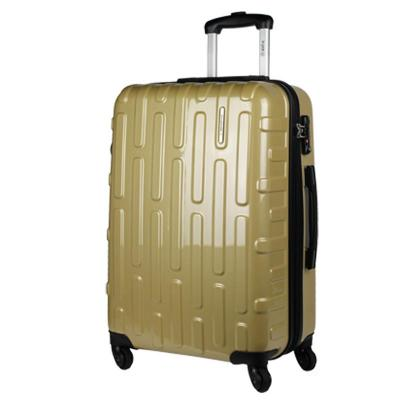luggage: (106, 10, 320, 394)
